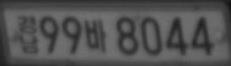0: (139, 16, 163, 55)
4: (189, 15, 214, 55), (165, 15, 189, 56)
8: (115, 15, 139, 56)
9: (60, 15, 82, 53), (40, 15, 60, 54)
경남_V: (16, 14, 40, 55)
바: (83, 18, 107, 54)
